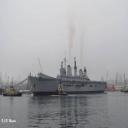Portanaves: (29, 53, 108, 97)
